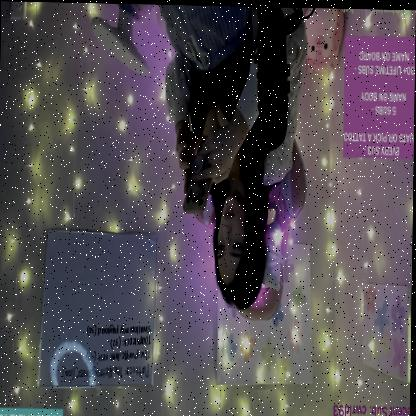streamer: (130, 2, 309, 309)
